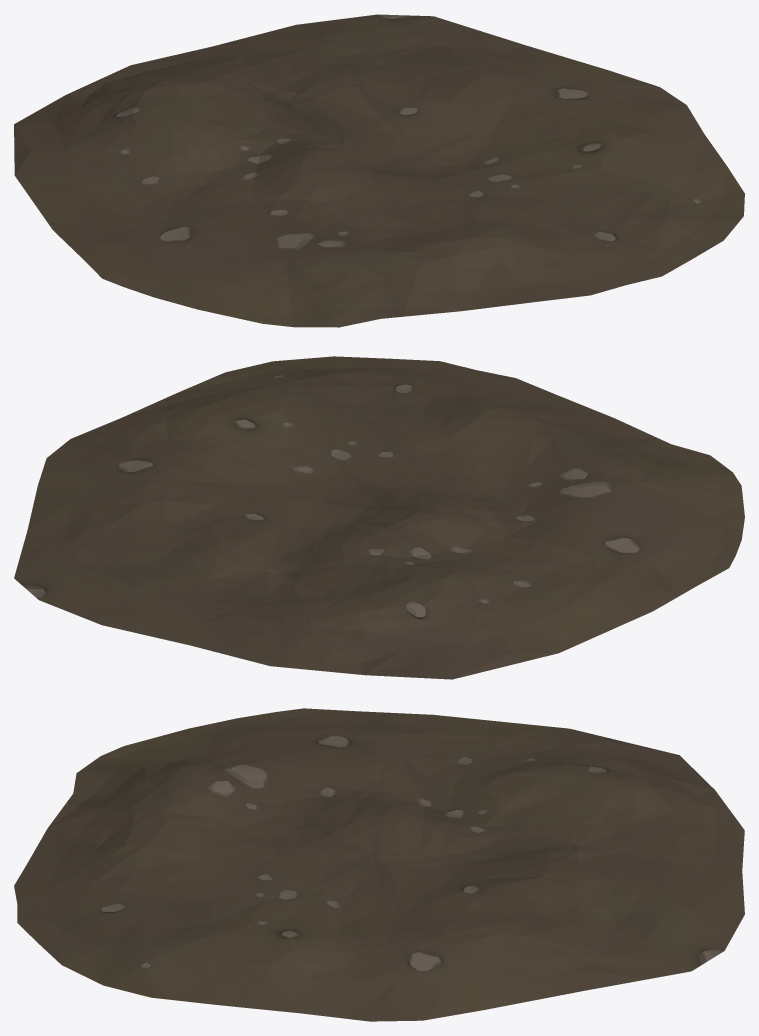
Rendered from synty-terrain-ground-mound-large-02.gltf.
3 renders of one model, top to bottom at view 1: azimuth 30°, elevation 25°; view 2: azimuth 150°, elevation 25°; view 3: azimuth 270°, elevation 25°, orthographic. The views are drawn at different scales.
Parts seen in each view (by area): view 1: SM_Terrain_Ground_Mound_Large_02; view 2: SM_Terrain_Ground_Mound_Large_02; view 3: SM_Terrain_Ground_Mound_Large_02.
Boxes of the visible parts, box(x1,y1,x2,y2) form: SM_Terrain_Ground_Mound_Large_02: box(14, 14, 744, 327); SM_Terrain_Ground_Mound_Large_02: box(14, 356, 744, 679); SM_Terrain_Ground_Mound_Large_02: box(14, 708, 744, 1021).
Bounding box in the file's own units: 19.78 × 0.7862 × 19.51.
1 material, 1 textured.
